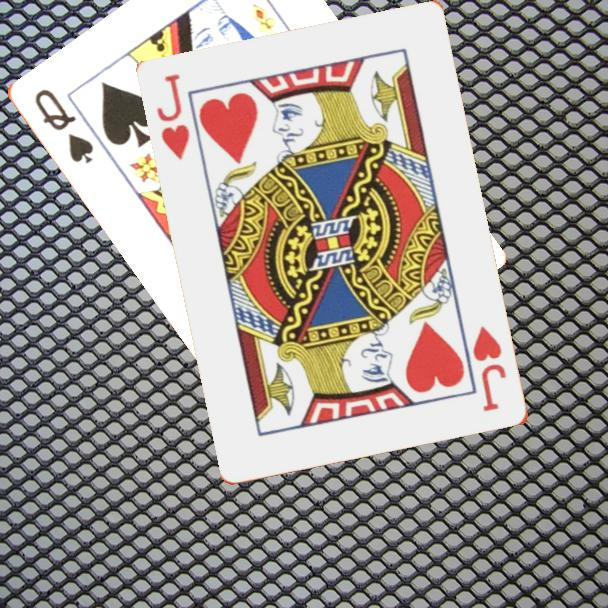h11: (153, 70, 194, 164), (470, 322, 510, 415)
s12: (30, 85, 96, 167)
